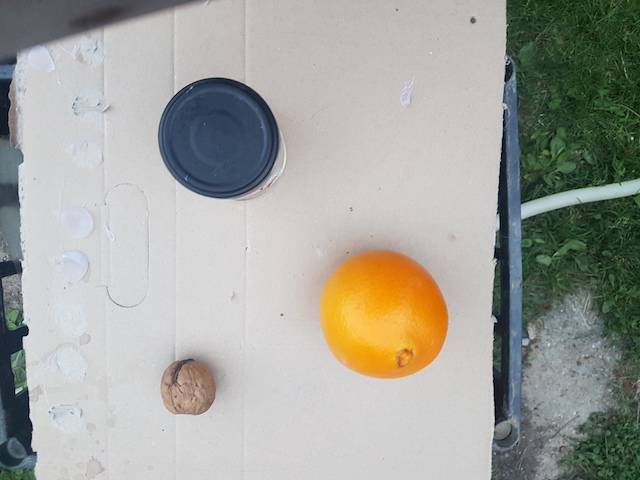nut: (159, 358, 221, 418)
orange: (316, 249, 452, 381)
recipient: (157, 76, 278, 201)
